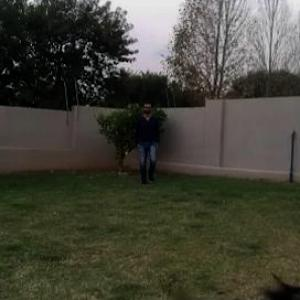follow: (134, 95, 159, 193)
